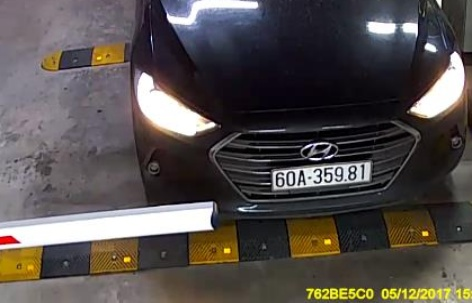plate: (269, 157, 373, 193)
